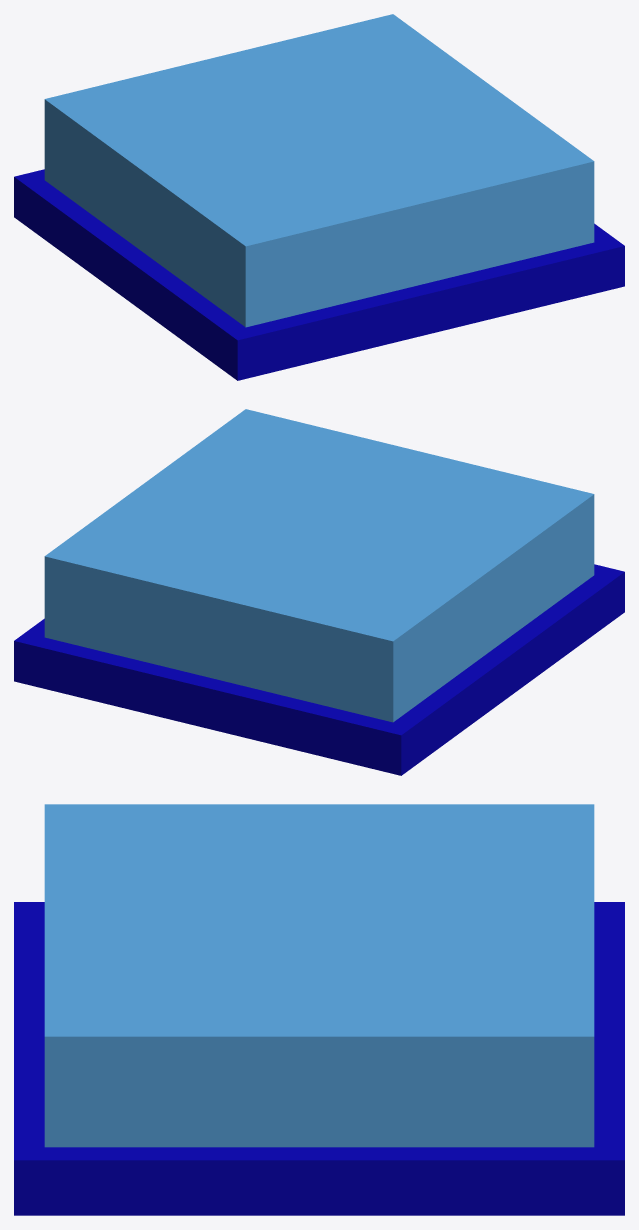
Rendered from Face_Quad_Ext.glb.
The picture shows the model from 3 angles, top to bottom: view 1: azimuth 30°, elevation 25°; view 2: azimuth 150°, elevation 25°; view 3: azimuth 270°, elevation 25°; orthographic projection. The views are drawn at different scales.
Parts seen in each view (by area): view 1: Face_Quad_Ext; view 2: Face_Quad_Ext; view 3: Face_Quad_Ext.
Boxes of the visible parts, x1,y1,x2,y2 form: Face_Quad_Ext: (14,14,624,380); Face_Quad_Ext: (14,409,624,775); Face_Quad_Ext: (14,804,624,1215).
Bounding box in the file's own units: 2 × 0.6 × 2.
